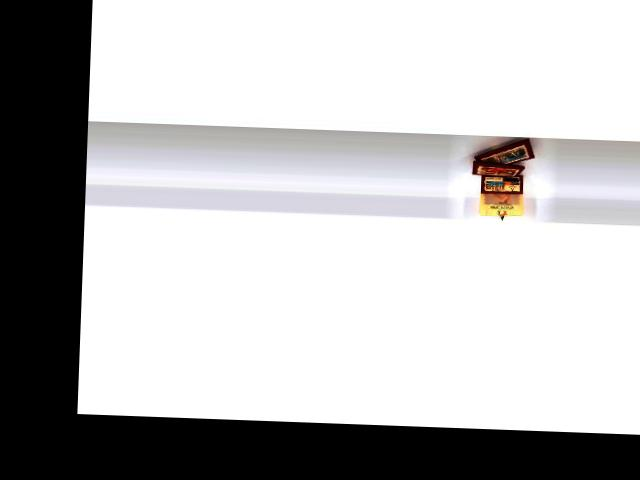chocolate: (470, 131, 547, 169)
